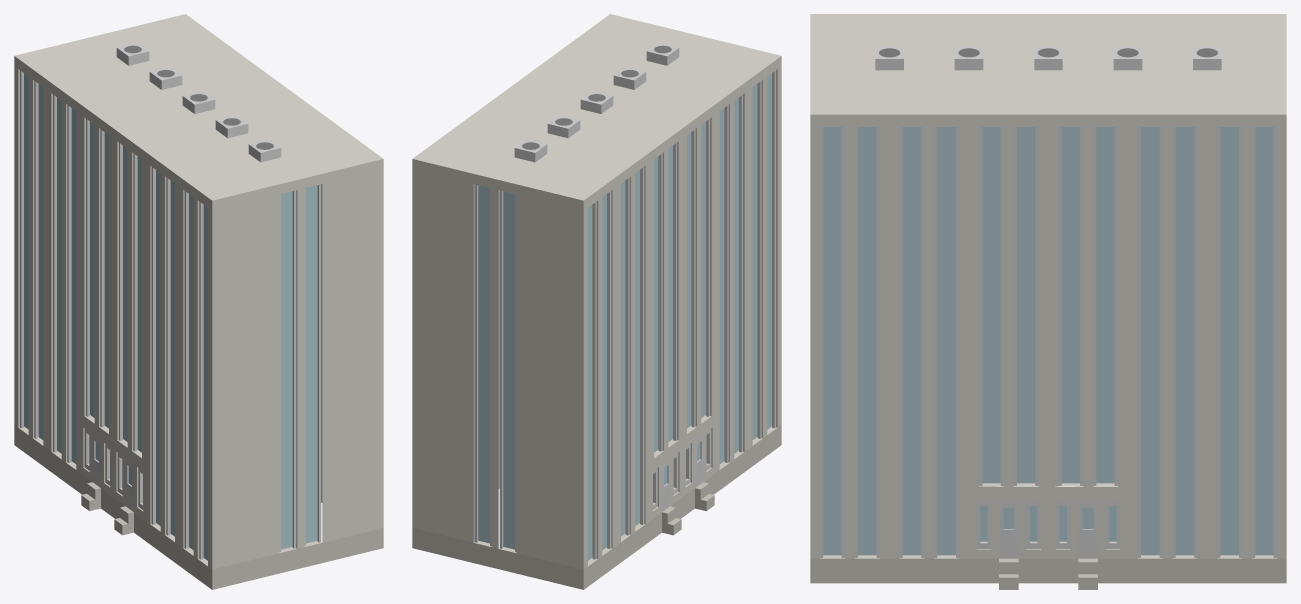
File: Building 2.fbx
3 renders of one model, left to right at view 1: azimuth 30°, elevation 25°; view 2: azimuth 150°, elevation 25°; view 3: azimuth 270°, elevation 25°, orthographic. The views are drawn at different scales.
Parts seen in each view (by area): view 1: Building 2; view 2: Building 2; view 3: Building 2.
Boxes of the visible parts, <box> form: Building 2: <box>14,14,383,589</box>; Building 2: <box>412,14,781,589</box>; Building 2: <box>810,14,1286,589</box>.
Size of the model in its own units: 340 by 667 by 600.
